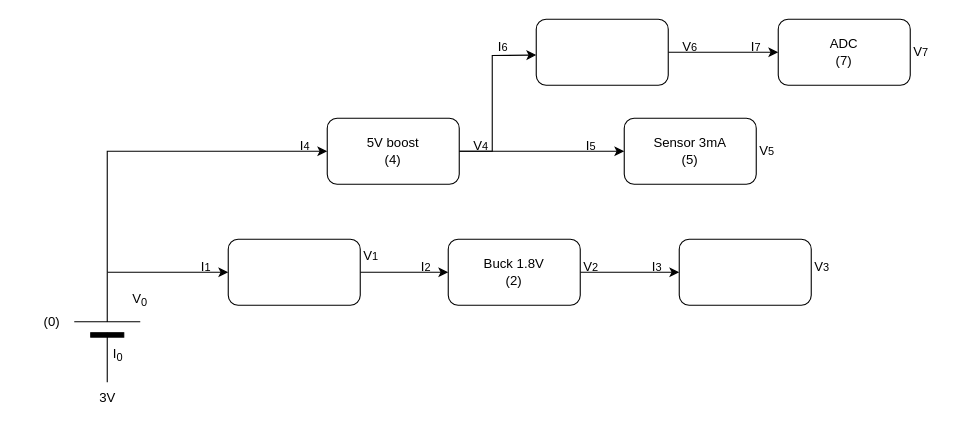
Image size: 972x425. Some labels were removed from this diagram. The shapes that lost their labels are listed below. From the top down, each one's centre as x and y in pixels, then its label:
At (601,51): "Linreg (6)".
At (293,271): "Resistor (1)".
At (744,271): "MCU (3)".
